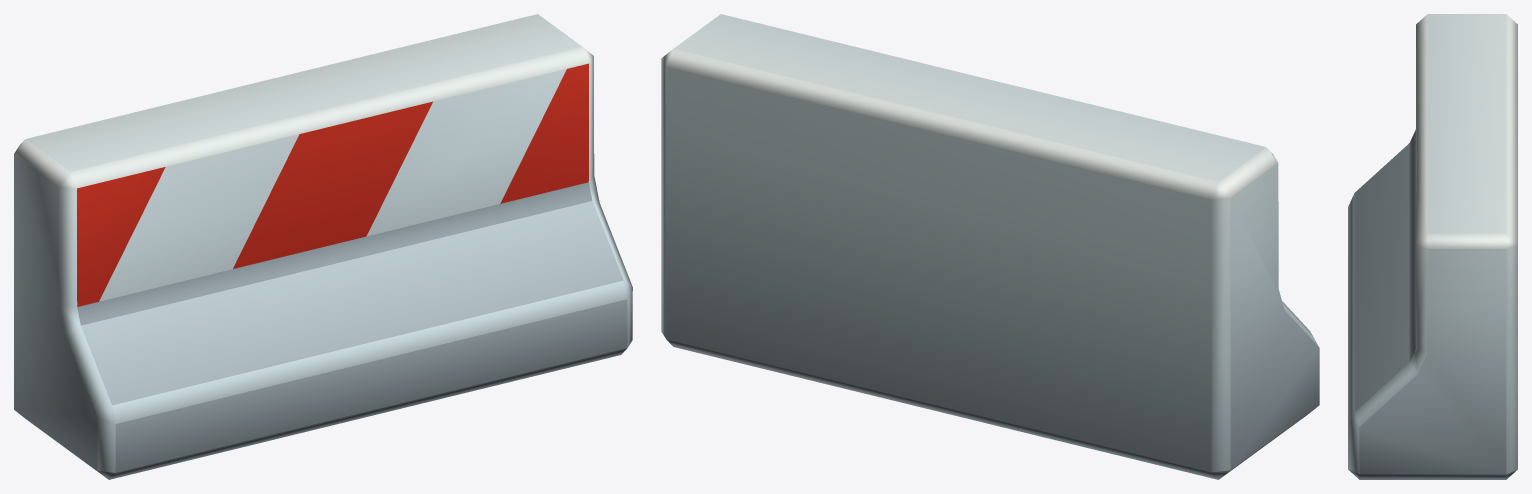
The model's file is barrier_concrete.fbx.
3 renders of one model, left to right at view 1: azimuth 30°, elevation 25°; view 2: azimuth 150°, elevation 25°; view 3: azimuth 270°, elevation 25°, orthographic. The views are drawn at different scales.
Visible parts, largest first — view 1: barrier_concrete; view 2: barrier_concrete; view 3: barrier_concrete.
Part boxes in pixels (<box>): barrier_concrete: <box>14,14,632,479</box>; barrier_concrete: <box>661,14,1319,479</box>; barrier_concrete: <box>1348,14,1517,479</box>.
Size of the model in its own units: 200 by 100 by 62.5.
